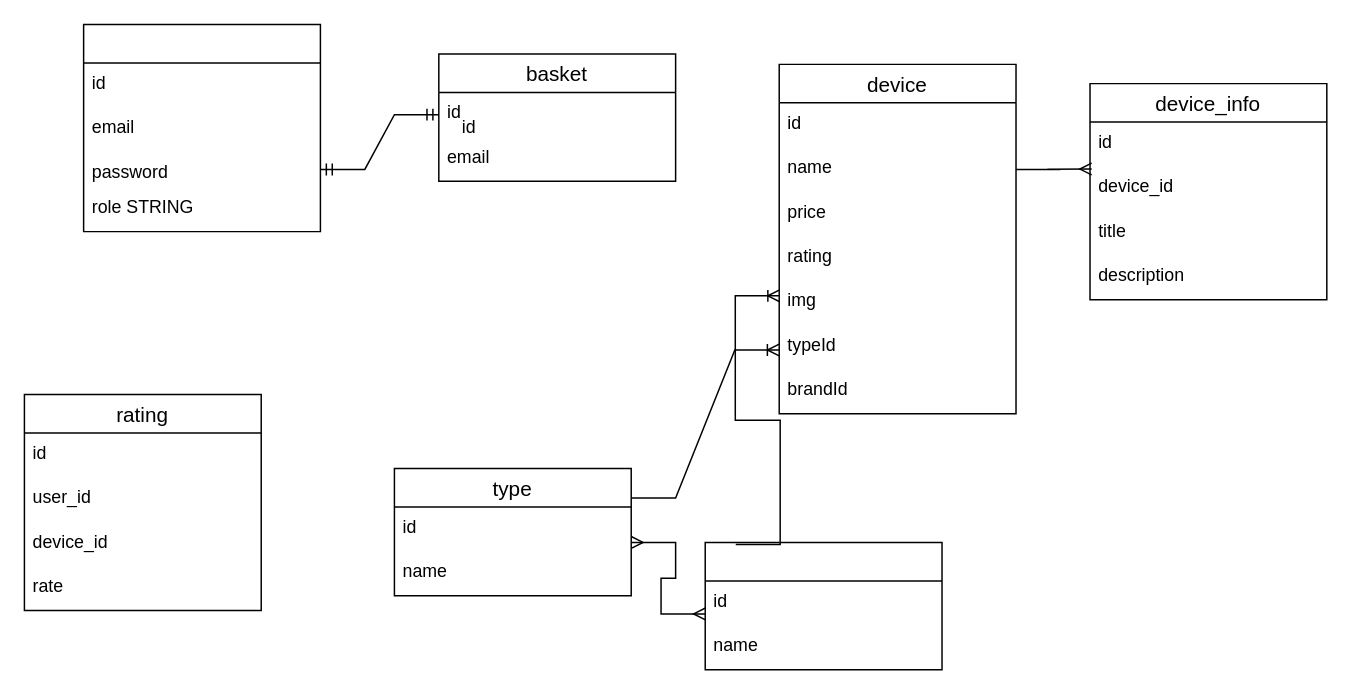
Some shapes in this 1351 by 694 pixel diagram are drawn without their labels. The box of each missing label's shape, as (x1, y1, x2, y2) in pixels:
brand: (704, 541, 942, 670)
Users: (82, 23, 320, 232)
